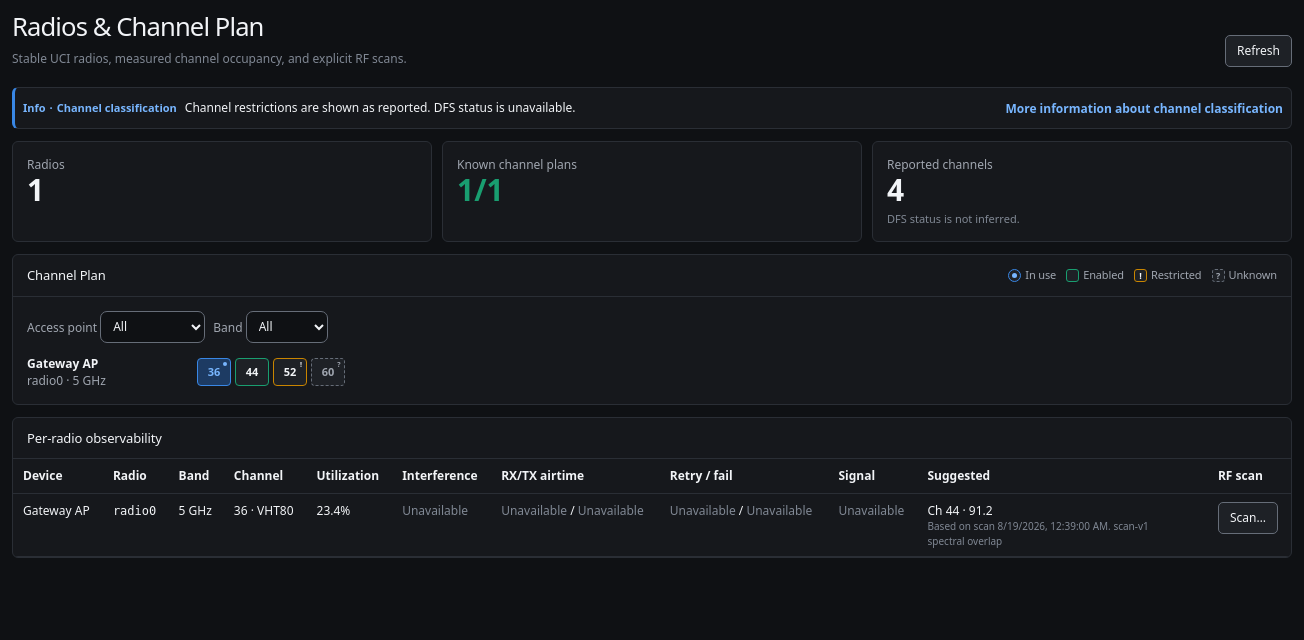
Test: Radios › retains and labels exact last-good inventory and metrics after a refresh failure
Expected: the text "23.4%" is shown, x1=306 y1=493 x2=392 y2=557
Step 1. Click the button "Refresh" → (1258, 51), box x1=1225 y1=35 x2=1292 y2=67
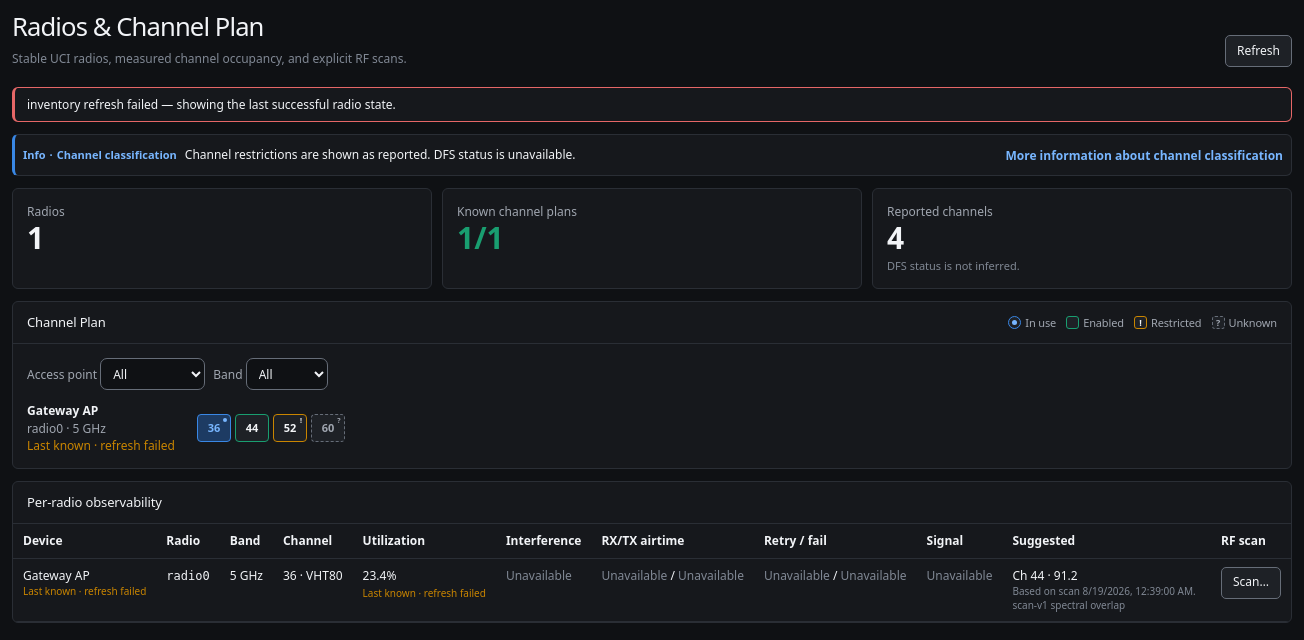
Expected: the text "23.4%" is shown, x1=363 y1=567 x2=396 y2=584
Expected: the text "inventory refresh failed — showing the last successful" is shown, x1=27 y1=96 x2=396 y2=113
Expected: the text "Last known · refresh failed" below "52" is shown, x1=27 y1=437 x2=175 y2=454
